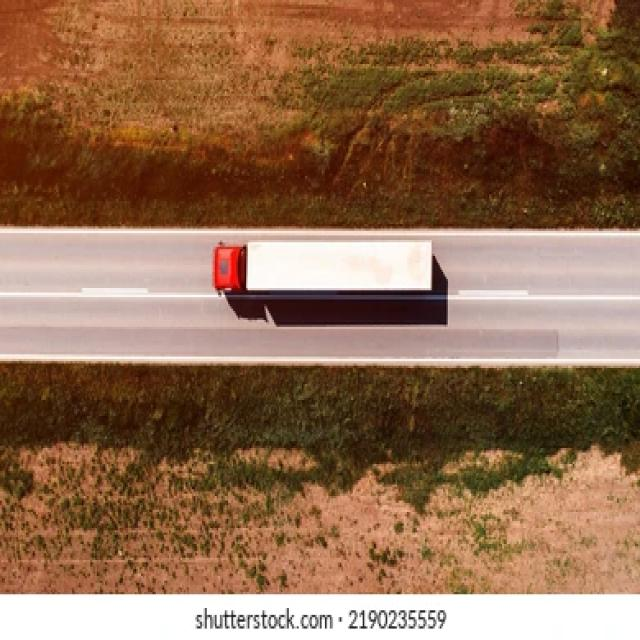truck: (214, 242, 431, 291)
